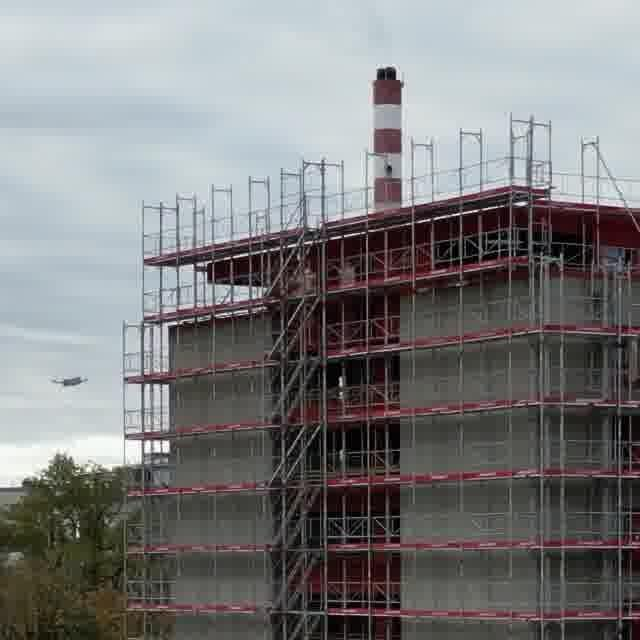Drohne: (52, 376, 87, 386)
